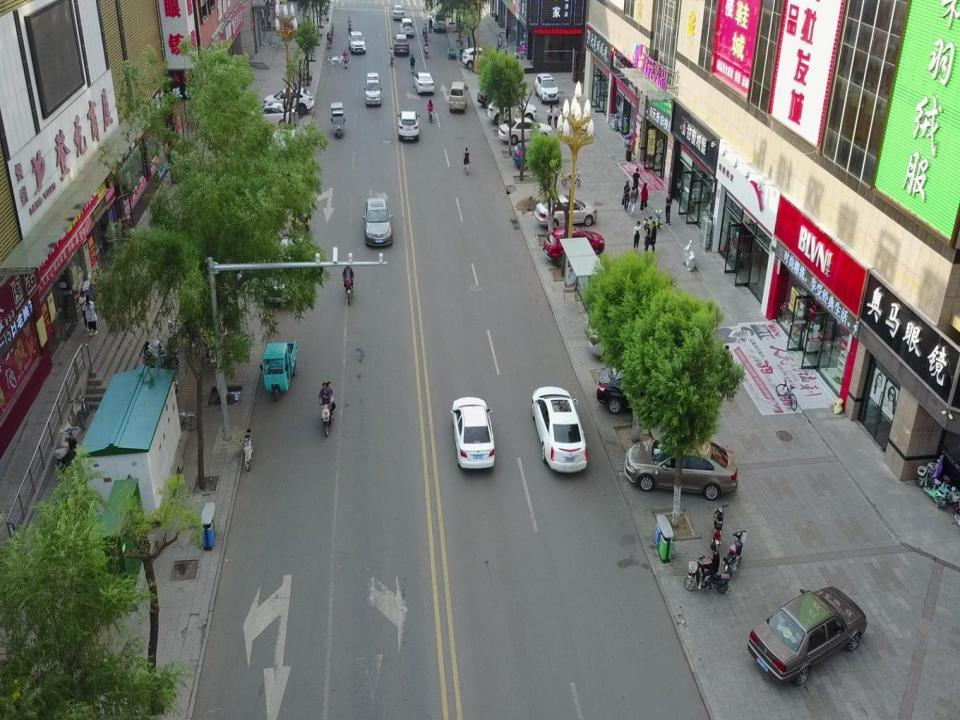car: (747, 586, 867, 686), (624, 434, 738, 501), (596, 360, 694, 418), (531, 386, 587, 474), (587, 312, 676, 364), (450, 396, 494, 472), (261, 237, 304, 306), (543, 225, 605, 268), (534, 194, 598, 231), (241, 101, 295, 131), (498, 117, 554, 145), (362, 198, 393, 246), (512, 138, 557, 170), (263, 88, 314, 115), (487, 98, 537, 125), (534, 72, 559, 103), (477, 86, 513, 107), (397, 110, 420, 142), (462, 46, 494, 69), (413, 72, 435, 95), (348, 31, 366, 55), (392, 34, 410, 55), (399, 18, 414, 38), (392, 4, 405, 21)
van: (363, 72, 382, 108), (449, 81, 468, 113), (429, 9, 446, 32)
